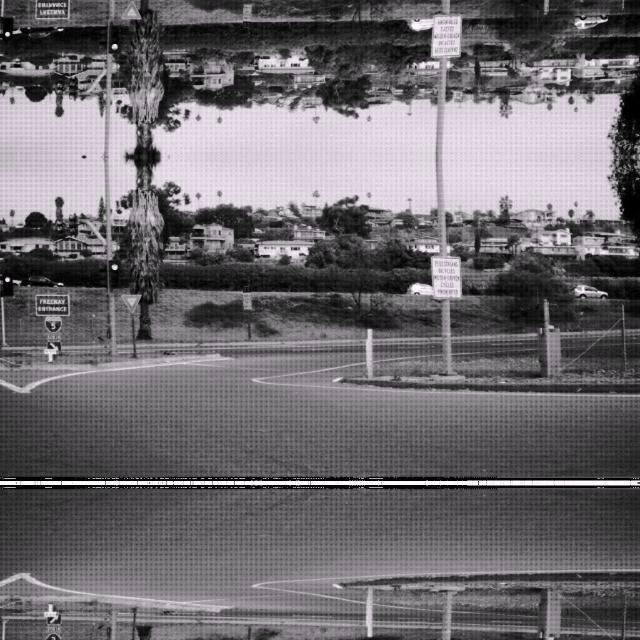yield: (119, 292, 141, 312), (119, 0, 141, 20)
